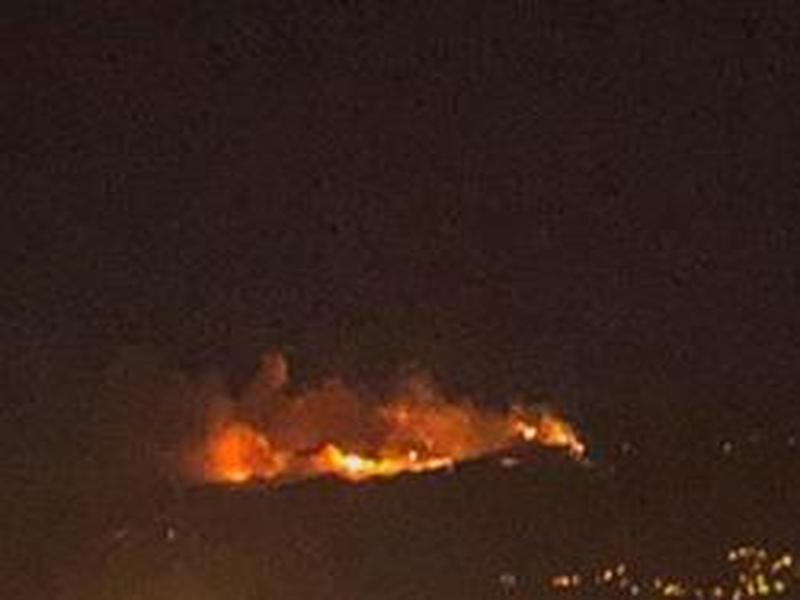FIRE: (150, 366, 595, 515)
